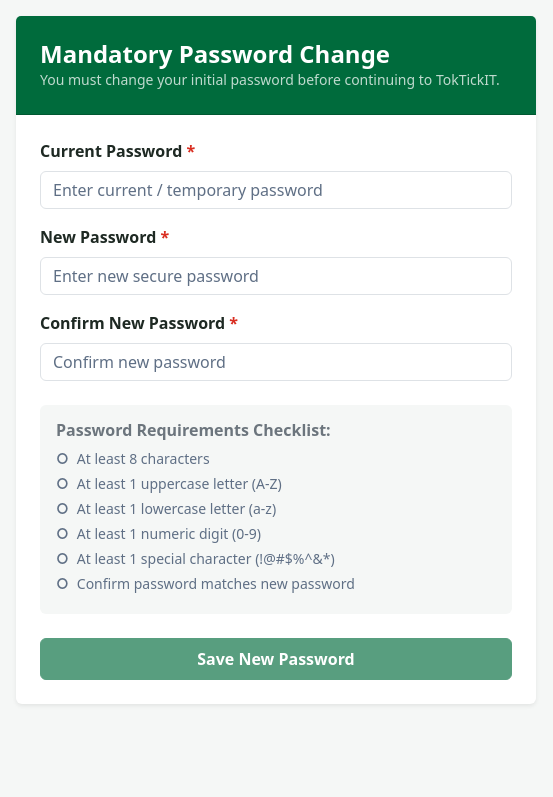
Test: UI-02: Mandatory Change Password Component Tests › submits valid password change payload and handles success
The image size is (553, 797).
In the password field labelled "Current Password *": (276, 190) [40,171,512,209], type "Initial123!"
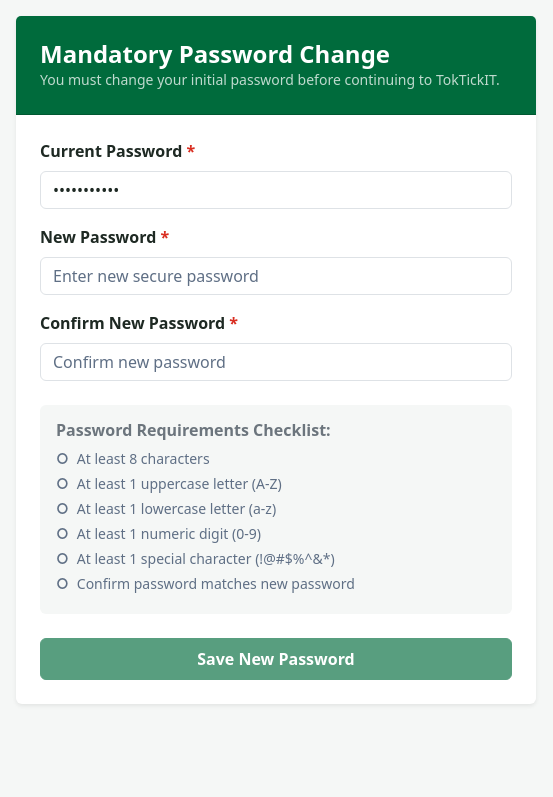
In the password field labelled "New Password *": (276, 276) [40,257,512,295], type "NewSecure123!"
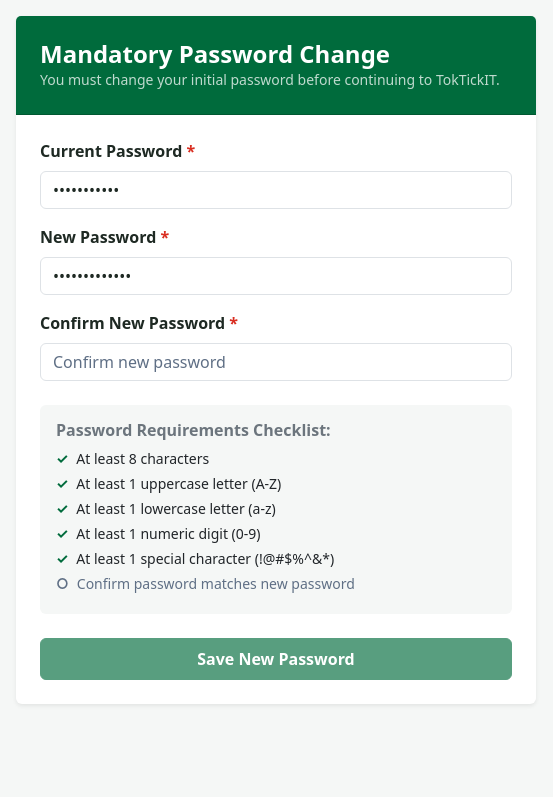
In the password field labelled "Confirm New Password *": (276, 362) [40,343,512,381], type "NewSecure123!"
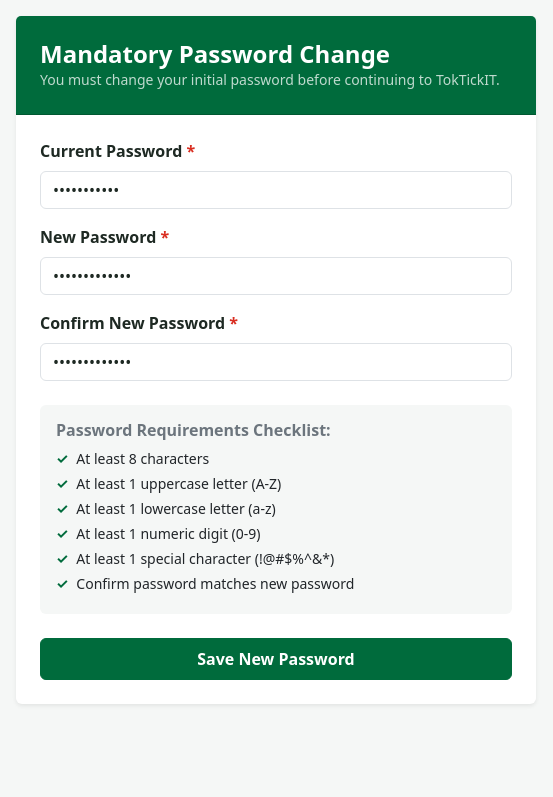
Click the button "Save New Password": (276, 659) [40,638,512,680]
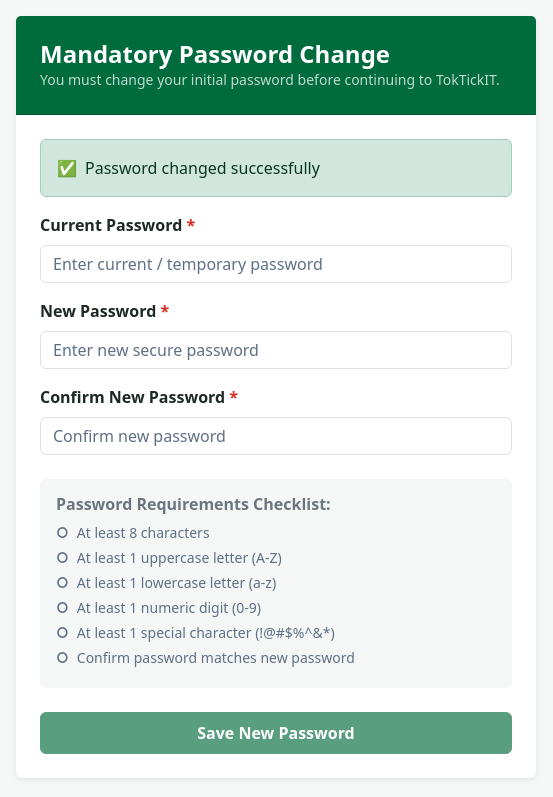
Expected: the text "Password changed successfully" is shown, [85,156,320,180]
